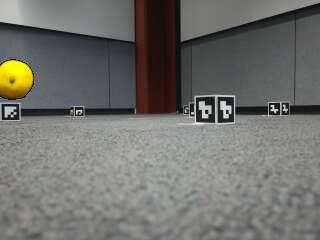lemon: (0, 60, 33, 98)
